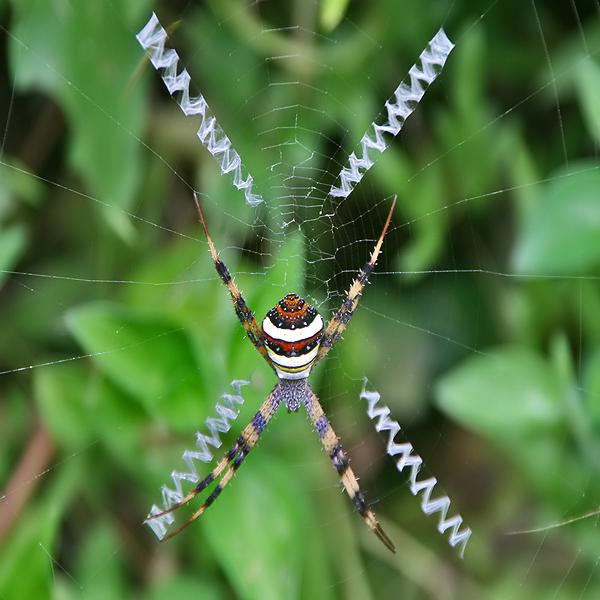St Andrew's Cross Spider: (167, 190, 397, 554)
